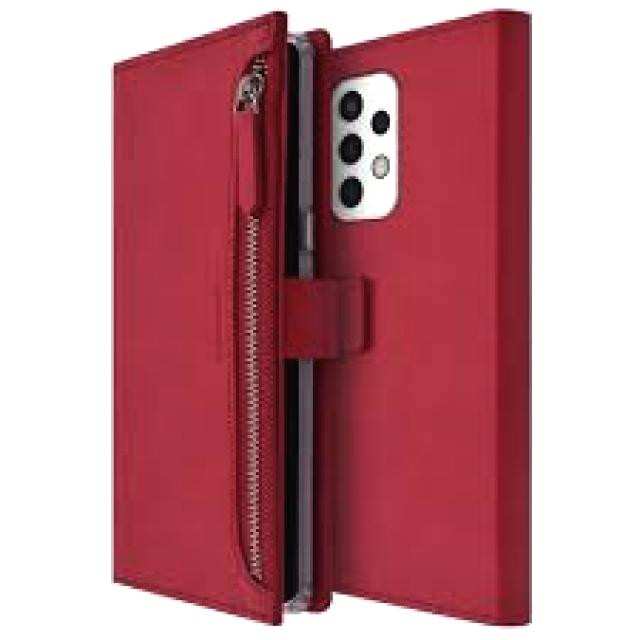lens: (328, 72, 404, 220)
phone: (320, 2, 529, 628)
